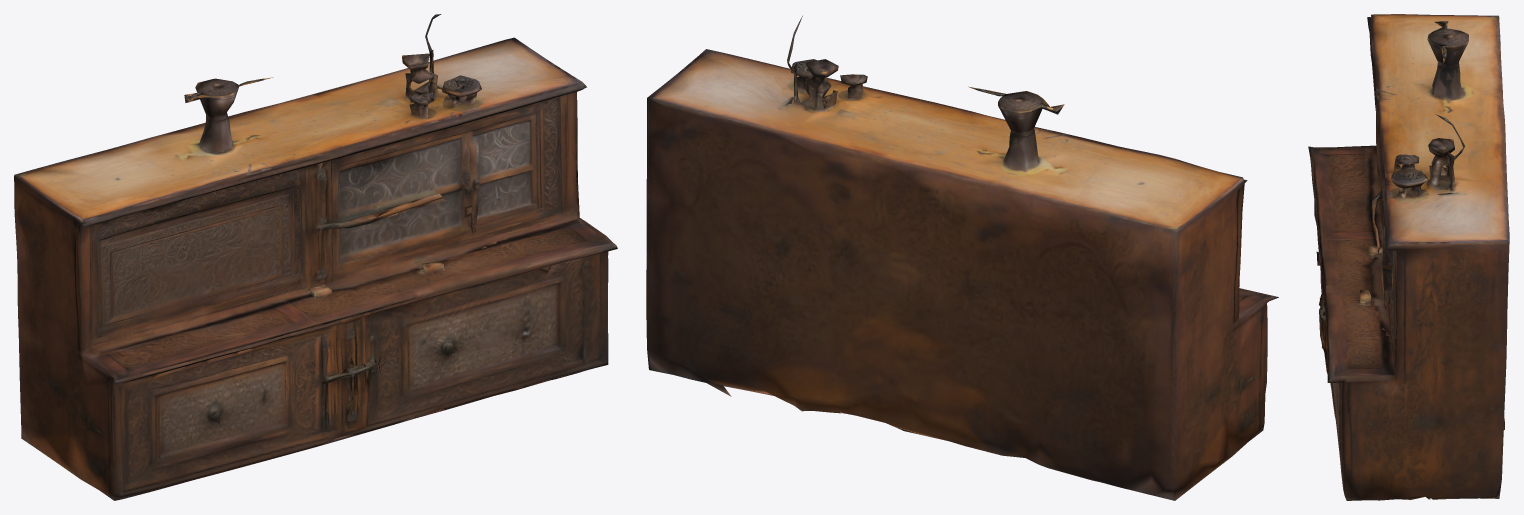
File: oldcabinet.glb
The picture shows the model from 3 angles, left to right: view 1: azimuth 30°, elevation 25°; view 2: azimuth 150°, elevation 25°; view 3: azimuth 270°, elevation 25°; orthographic projection. The views are drawn at different scales.
Size of the model in its own units: 2 by 1.32 by 0.7099.
Materials: 1 (1 with a texture image).
